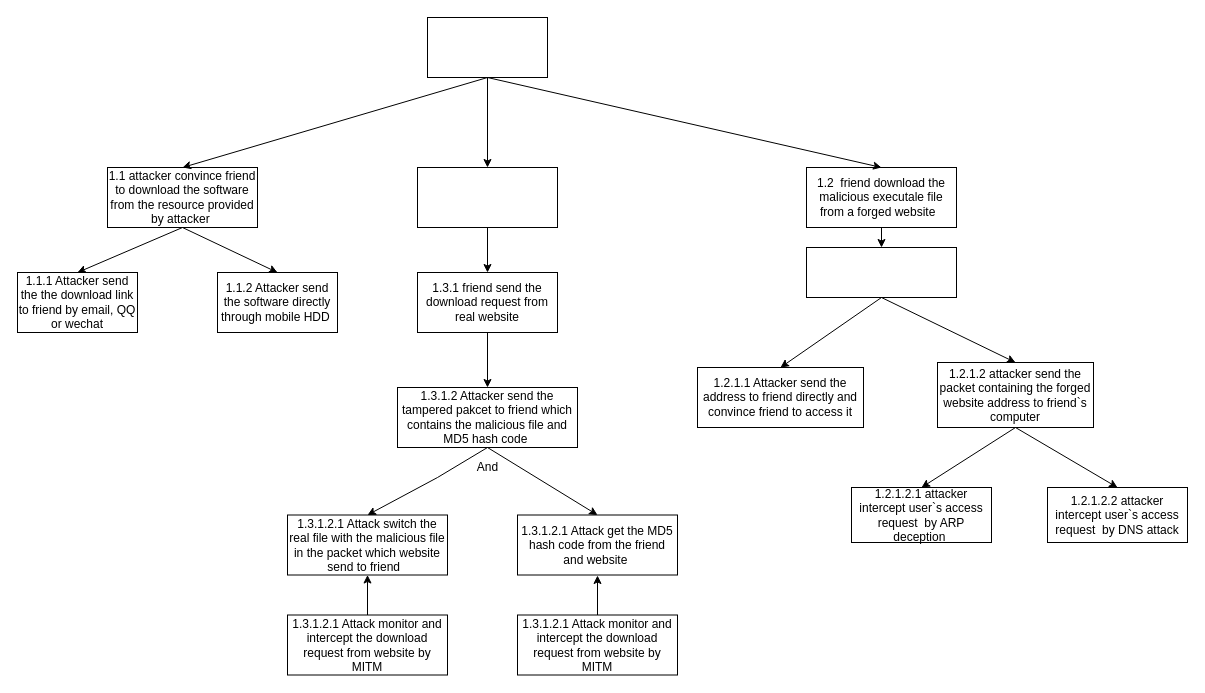
Some shapes in this 1205 by 693 pixel diagram are drawn without their labels. The shapes that lost their labels are listed below. From the top down, each one's centre as x and y in pixels, then its label:
At (487,47): "1. friend runs the malicious executable file".
At (487,197): "1.3 friend download the malicious file from the real website".
At (881,272): "1.2.1 friend accesses the forged website which provides a fake MD5".
